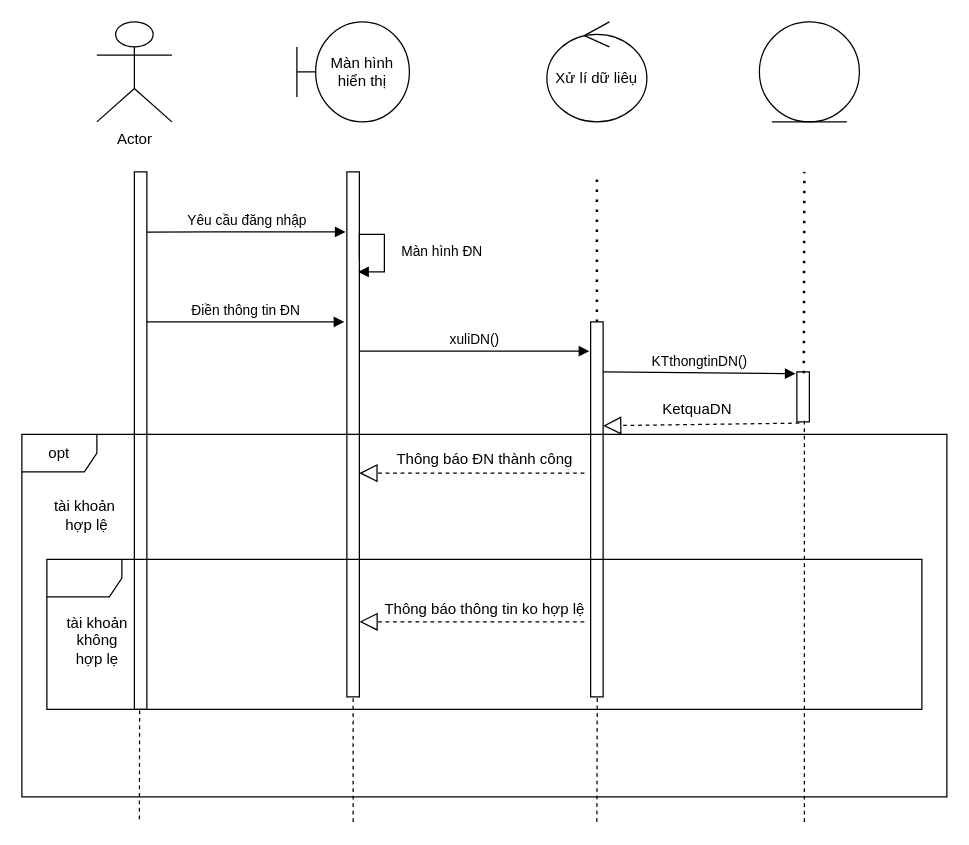
Some shapes in this 969 by 845 pixel diagram are drawn without their labels. The shapes that lost their labels are listed below. From the top down, each one's box as (x1, y1, x2, y2) in pixels, then its label:
(758, 21, 859, 122): Tài khoản
(46, 558, 922, 709): alt
